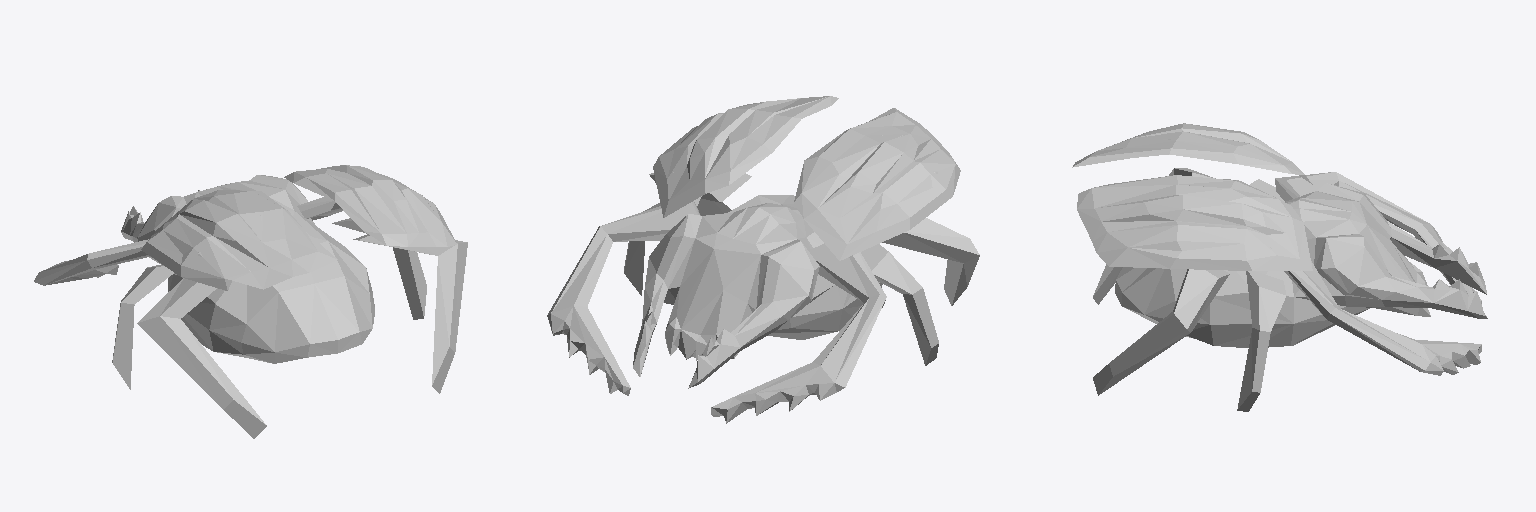
The model's file is scarab.obj.
3 views of the same model, side by side, from view 1: azimuth 30°, elevation 25°; view 2: azimuth 150°, elevation 25°; view 3: azimuth 270°, elevation 25° (orthographic).
Parts seen in each view (by area): view 1: Beetle.001_Circle.004; view 2: Beetle.001_Circle.004; view 3: Beetle.001_Circle.004.
Part boxes in pixels (x1,y1,x2,y2): Beetle.001_Circle.004: (34,165,467,438); Beetle.001_Circle.004: (547,96,979,423); Beetle.001_Circle.004: (1072,123,1487,411).
Size of the model in its own units: 1.9 by 1.04 by 2.07.